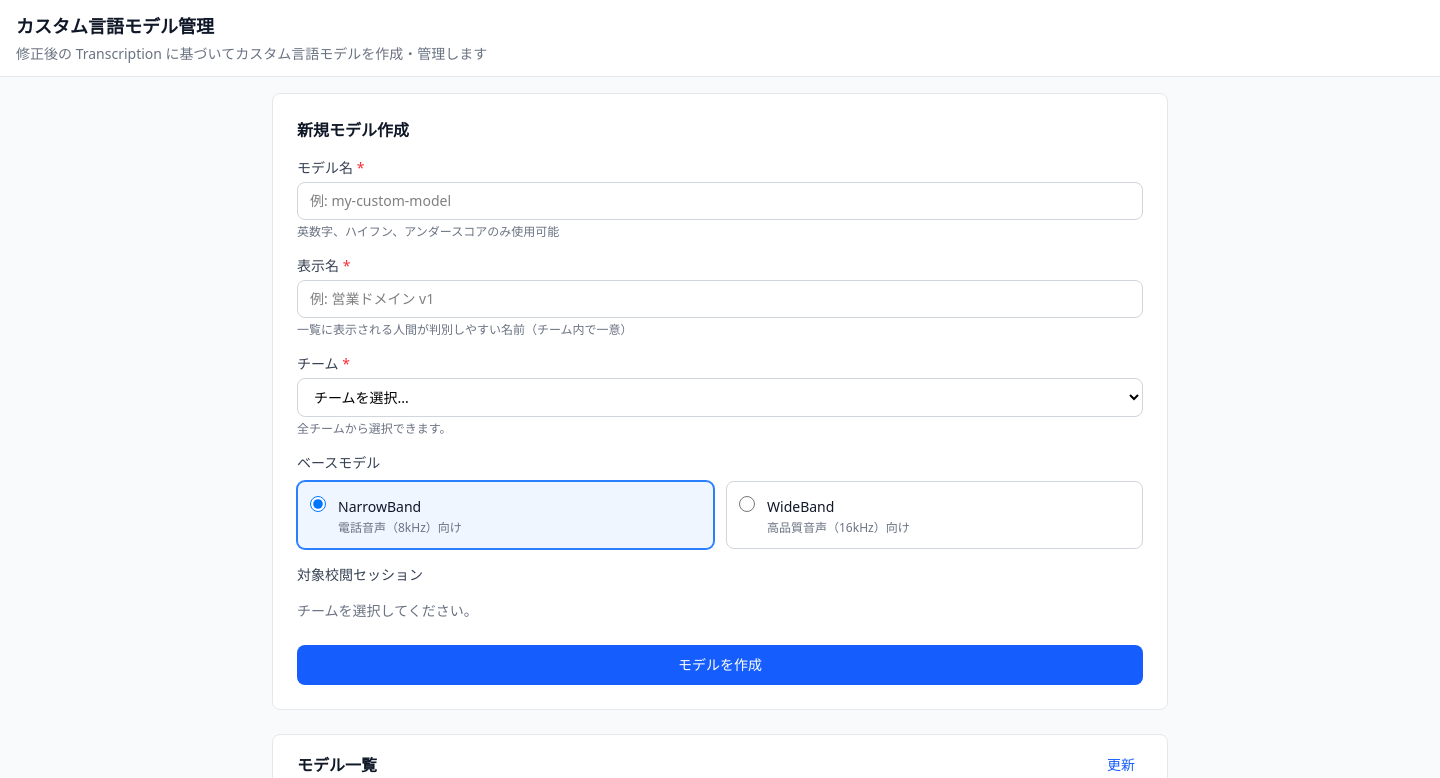
Scenario: LanguageModelPage › source-session team-match candidate filtering › clears a selection that is not assigned to the newly selected team
Select "チームA" in the dropdown labelled "チーム *" at coordinates (720, 398), box [297, 378, 1143, 417]
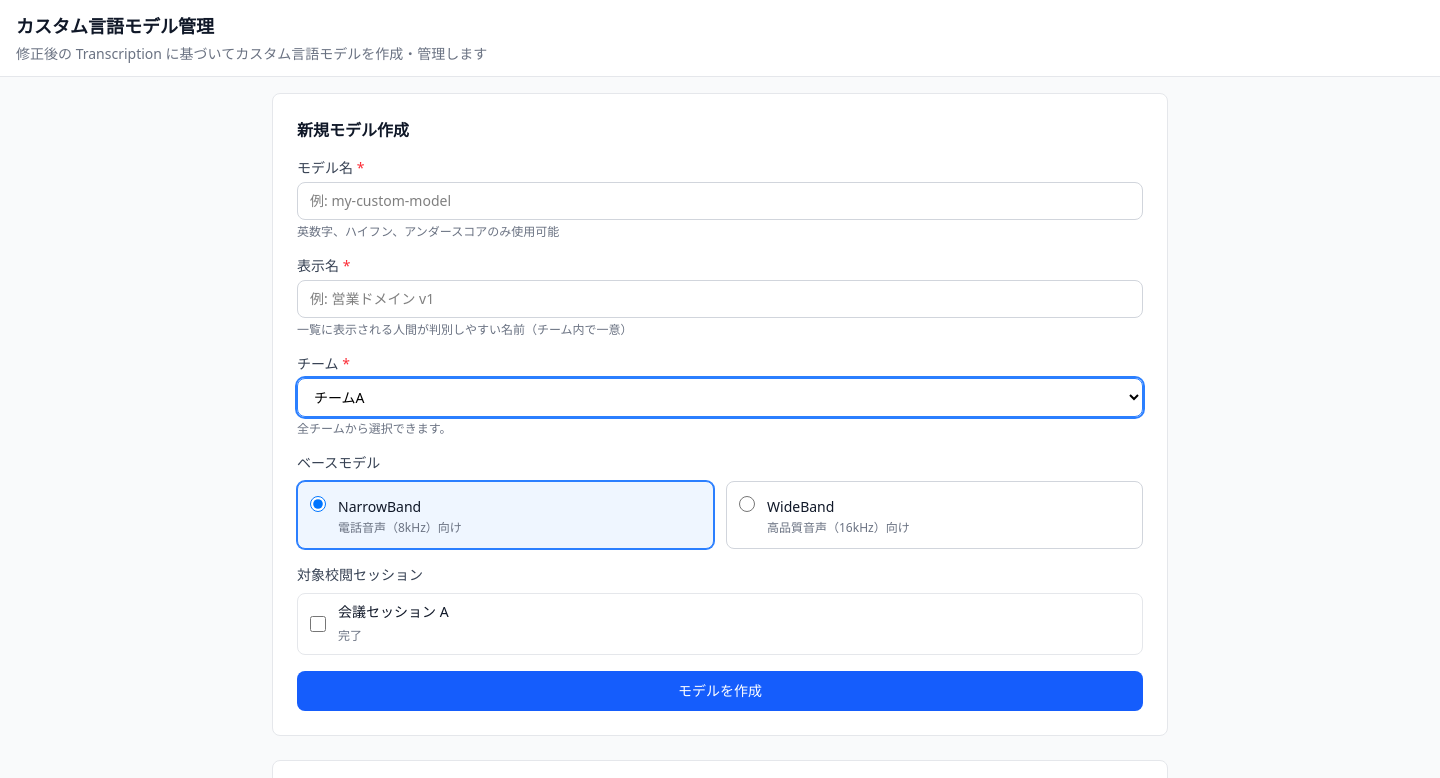
Click the checkbox labelled "会議セッション A 完了" at coordinates (318, 624), box [310, 616, 326, 632]
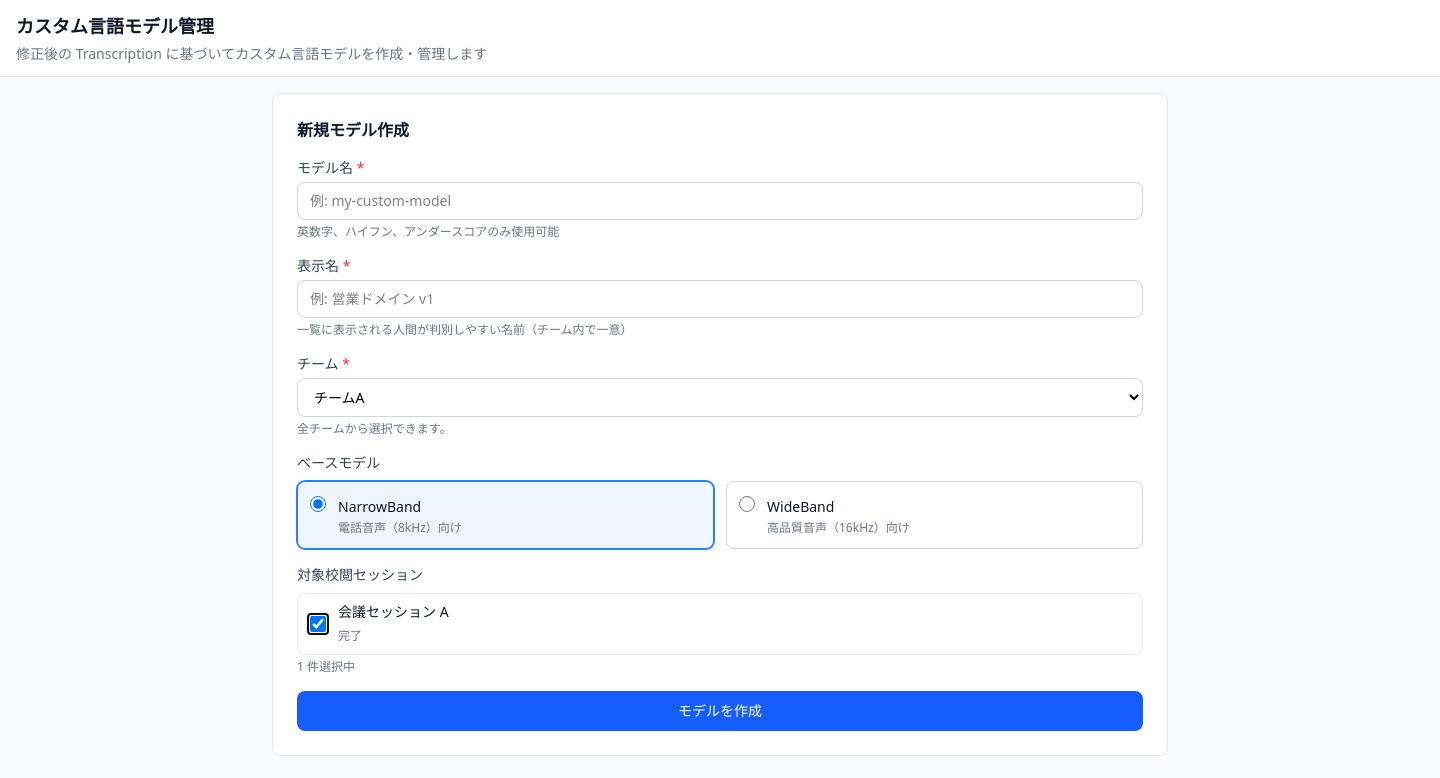
Expected: the text "1 件選択中" is shown, [297, 658, 355, 675]
Select "チームB" in the dropdown labelled "チーム *" at coordinates (720, 398), box [297, 378, 1143, 417]
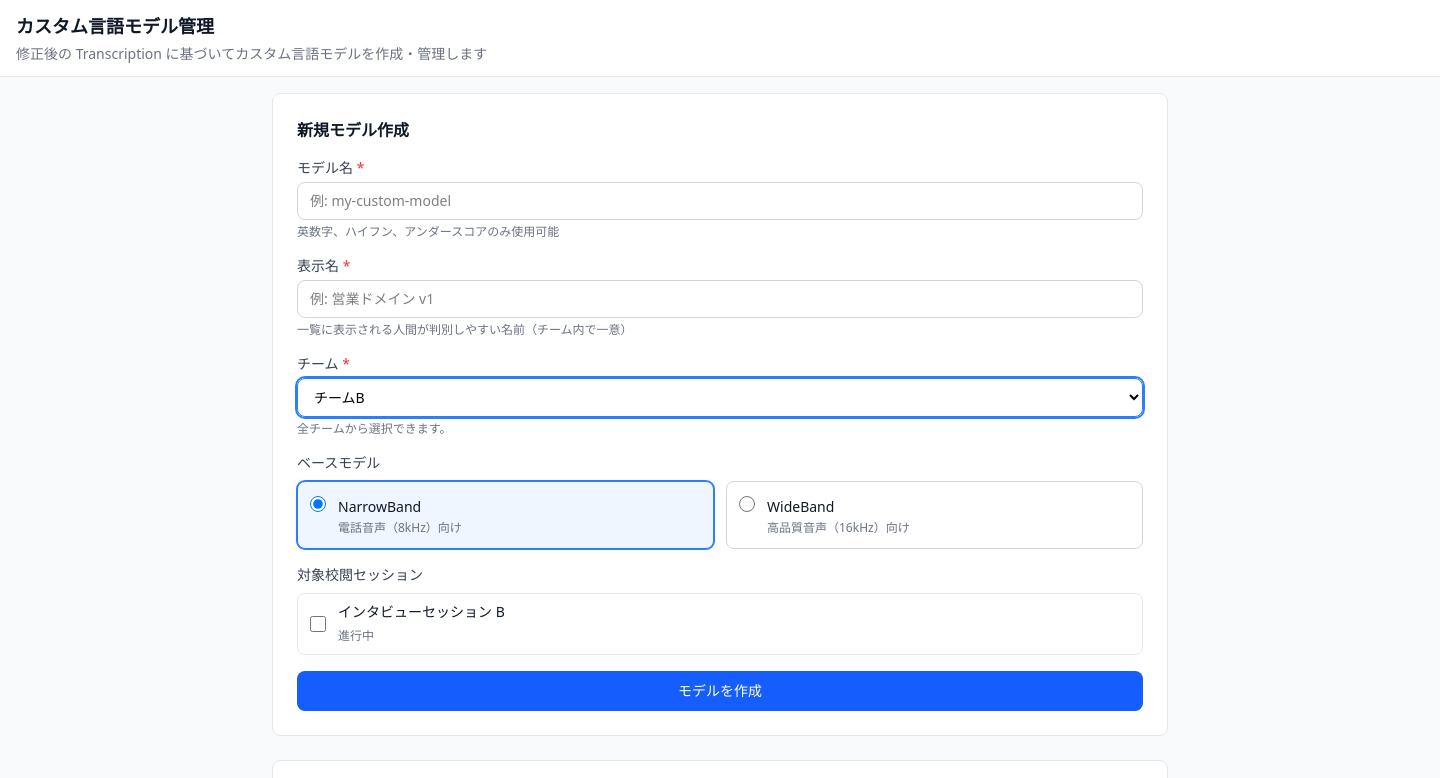
Expected: the text "件選択中" is gone
Expected: the checkbox labelled "インタビューセッション B 進行中" is not checked, [310, 616, 326, 632]
